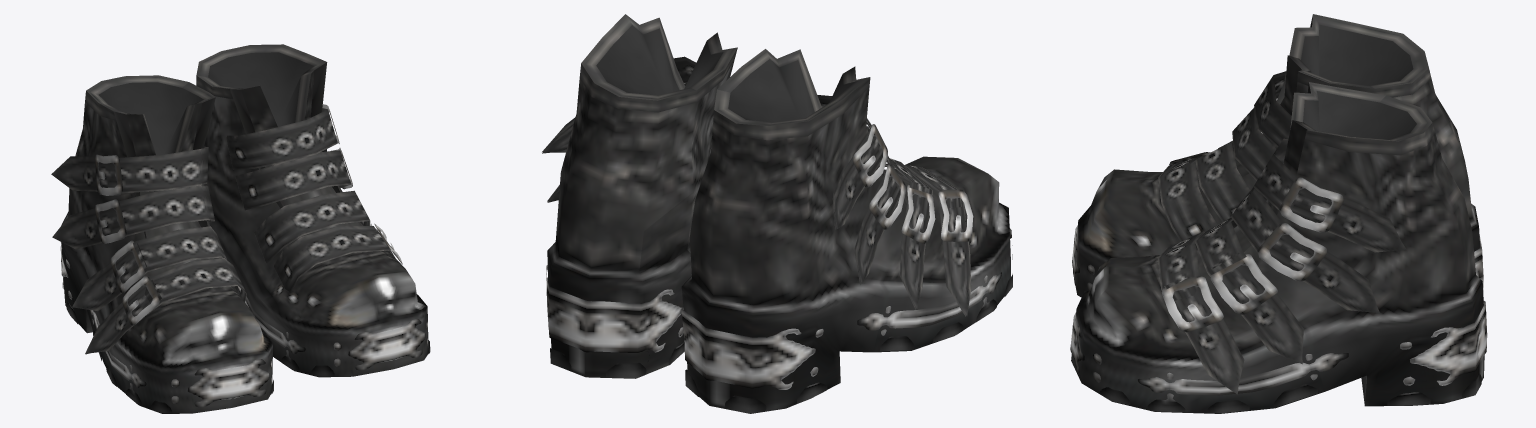
Rendered from Goth_OpenAnkle_Ground.fbx.
3 renders of one model, left to right at view 1: azimuth 30°, elevation 25°; view 2: azimuth 150°, elevation 25°; view 3: azimuth 270°, elevation 25°, orthographic. The views are drawn at different scales.
Parts seen in each view (by area): view 1: Goth_OpenAnkle; view 2: Goth_OpenAnkle; view 3: Goth_OpenAnkle.
Boxes of the visible parts, box(x1,y1,x2,y2) form: Goth_OpenAnkle: box(51, 44, 430, 413); Goth_OpenAnkle: box(542, 14, 1012, 413); Goth_OpenAnkle: box(1070, 14, 1487, 413).
Size of the model in its own units: 0.1499 by 0.1044 by 0.1564.
